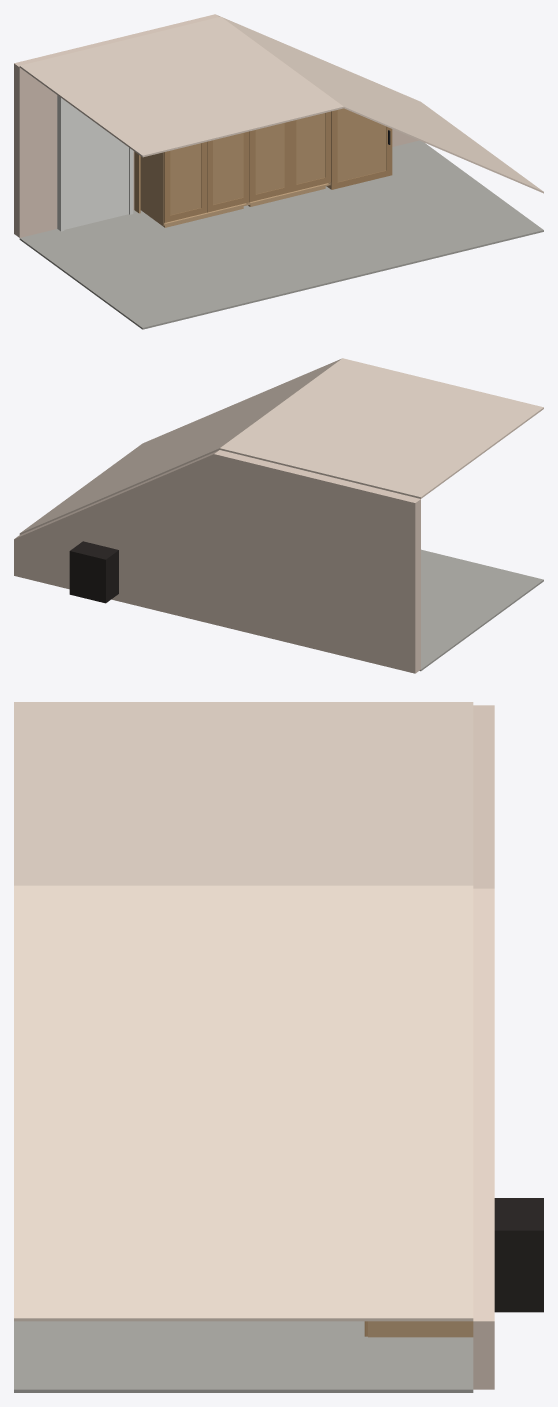
Rendered from loft-wardrobes-potters-bar.glb.
3 views of the same model, one above another, from view 1: azimuth 30°, elevation 25°; view 2: azimuth 150°, elevation 25°; view 3: azimuth 270°, elevation 25° (orthographic). The views are drawn at different scales.
Visible parts, largest first — view 1: Room: Floor, Room: Flat ceiling, Room: Back wall, Room: Sloping ceiling, Room: Door, Small angled unit: Door, Wardrobe: Door, left, Wardrobe: Door, right, Angled unit: Door, tall side, Angled unit: Door, folds on the tall door, Wardrobe: Side panel, left, Small angled unit: Door border (+6 smaller); view 2: Room: Back wall, Room: Flat ceiling, Room: Sloping ceiling, Room: Floor, Room: Loft space behind the hatch; view 3: Room: Sloping ceiling, Room: Flat ceiling, Room: Floor, Room: Back wall, Room: Loft space behind the hatch, Small angled unit: Side panel, right.
Boxes of the visible parts, x1,y1,x2,y2 form: Room: Floor: (19,140,543,329); Room: Flat ceiling: (19,16,343,157); Room: Back wall: (14,14,418,237); Room: Sloping ceiling: (222,17,543,193); Room: Door: (64,100,128,229); Small angled unit: Door: (331,108,386,189); Wardrobe: Door, left: (164,143,200,222); Wardrobe: Door, right: (213,133,243,204); Angled unit: Door, tall side: (255,123,284,194); Angled unit: Door, folds on the tall door: (296,113,325,184); Wardrobe: Side panel, left: (140,152,165,225); Small angled unit: Door border: (331,110,392,189); Room: Back wall: (14,450,420,673); Room: Flat ceiling: (219,358,543,498); Room: Sloping ceiling: (19,358,341,534); Room: Floor: (419,549,543,671); Room: Loft space behind the hatch: (69,541,118,603); Room: Sloping ceiling: (14,885,473,1321); Room: Flat ceiling: (14,702,473,885); Room: Floor: (14,1321,473,1392); Room: Back wall: (473,705,494,1389); Room: Loft space behind the hatch: (494,1198,543,1312); Small angled unit: Side panel, right: (368,1321,473,1337).
Bounding box in the file's own units: 4.9 × 2.03 × 3.
